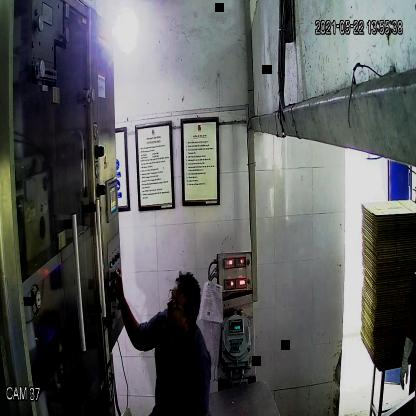goggles: (166, 286, 193, 318)
